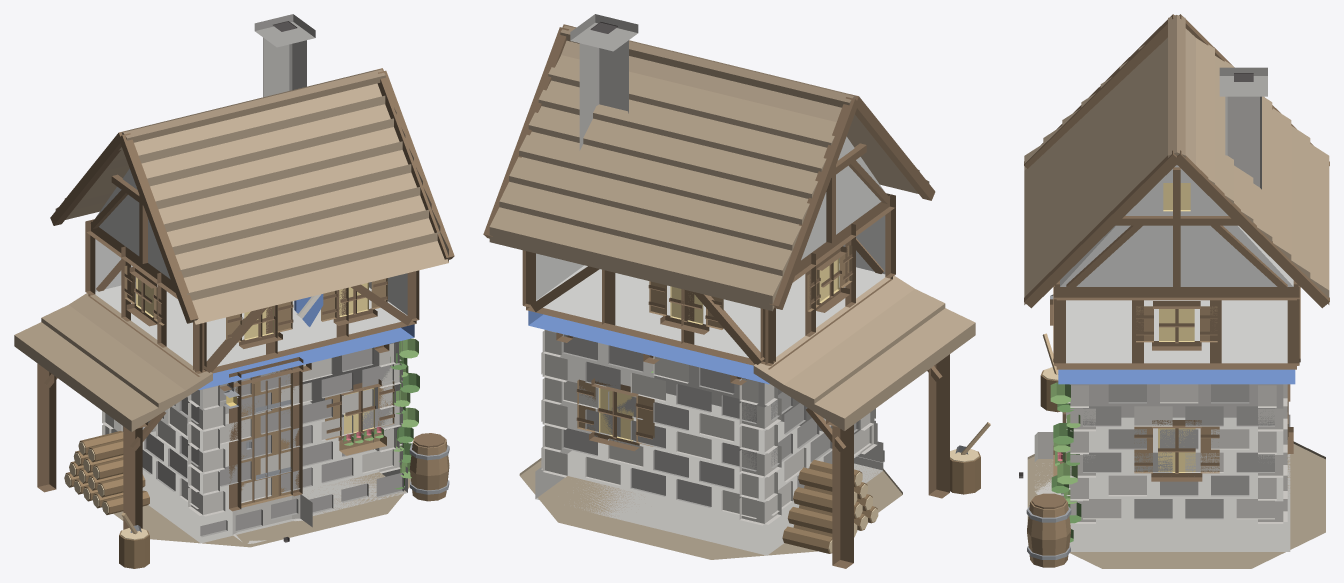
File: house_2.glb
3 renders of one model, left to right at view 1: azimuth 30°, elevation 25°; view 2: azimuth 150°, elevation 25°; view 3: azimuth 270°, elevation 25°, orthographic. The views are drawn at different scales.
Visible parts, largest first — view 1: Roof, Upper, Roof#2, Roof#3, Roof#4, Roof#5, Roof#6, Roof#7, Shed.Roof, Shed.Roof#2, Ground, Walls (+34 smaller); view 2: Upper, Roof#9, Walls, Roof#10, Roof#11, Roof#12, Roof#13, Plinth, Ground, Roof#14, Shed.Roof, Roof#15 (+47 smaller); view 3: Gable, Upper, Walls, Ground, Plinth, Band, Timber.Plate#3, Chimney, Roof#9, Gable.Barge#2, Roof#10, Roof#11 (+73 smaller).
Boxes of the visible parts, bbox=[...] form: Roof: bbox=[187, 232, 448, 324]; Upper: bbox=[95, 239, 407, 366]; Roof#2: bbox=[178, 209, 440, 292]; Roof#3: bbox=[172, 187, 431, 269]; Roof#4: bbox=[164, 164, 422, 246]; Roof#5: bbox=[155, 141, 413, 224]; Roof#6: bbox=[147, 118, 405, 201]; Roof#7: bbox=[139, 95, 396, 178]; Shed.Roof: bbox=[14, 322, 158, 431]; Shed.Roof#2: bbox=[41, 305, 185, 414]; Ground: bbox=[113, 472, 410, 547]; Walls: bbox=[114, 341, 399, 509]; Upper: bbox=[536, 215, 885, 357]; Roof#9: bbox=[489, 207, 782, 311]; Walls: bbox=[545, 330, 860, 517]; Roof#10: bbox=[499, 181, 792, 276]; Roof#11: bbox=[509, 157, 801, 250]; Roof#12: bbox=[519, 131, 809, 224]; Roof#13: bbox=[528, 106, 817, 198]; Plinth: bbox=[535, 441, 883, 555]; Ground: bbox=[519, 458, 902, 559]; Roof#14: bbox=[538, 80, 826, 173]; Shed.Roof: bbox=[814, 308, 975, 430]; Roof#15: bbox=[548, 55, 836, 147]; Gable: bbox=[1060, 165, 1293, 286]; Upper: bbox=[1066, 300, 1287, 363]; Walls: bbox=[1070, 384, 1283, 521]; Ground: bbox=[1027, 441, 1325, 568]; Plinth: bbox=[1069, 414, 1290, 551]; Band: bbox=[1058, 369, 1295, 384]; Timber.Plate#3: bbox=[1056, 287, 1296, 300]; Chimney: bbox=[1225, 96, 1261, 189]; Roof#9: bbox=[1310, 144, 1329, 304]; Gable.Barge#2: bbox=[1024, 150, 1179, 308]; Roof#10: bbox=[1291, 126, 1310, 279]; Roof#11: bbox=[1272, 108, 1291, 260].
Size of the model in its own units: 4.82 by 5.87 by 3.64.
